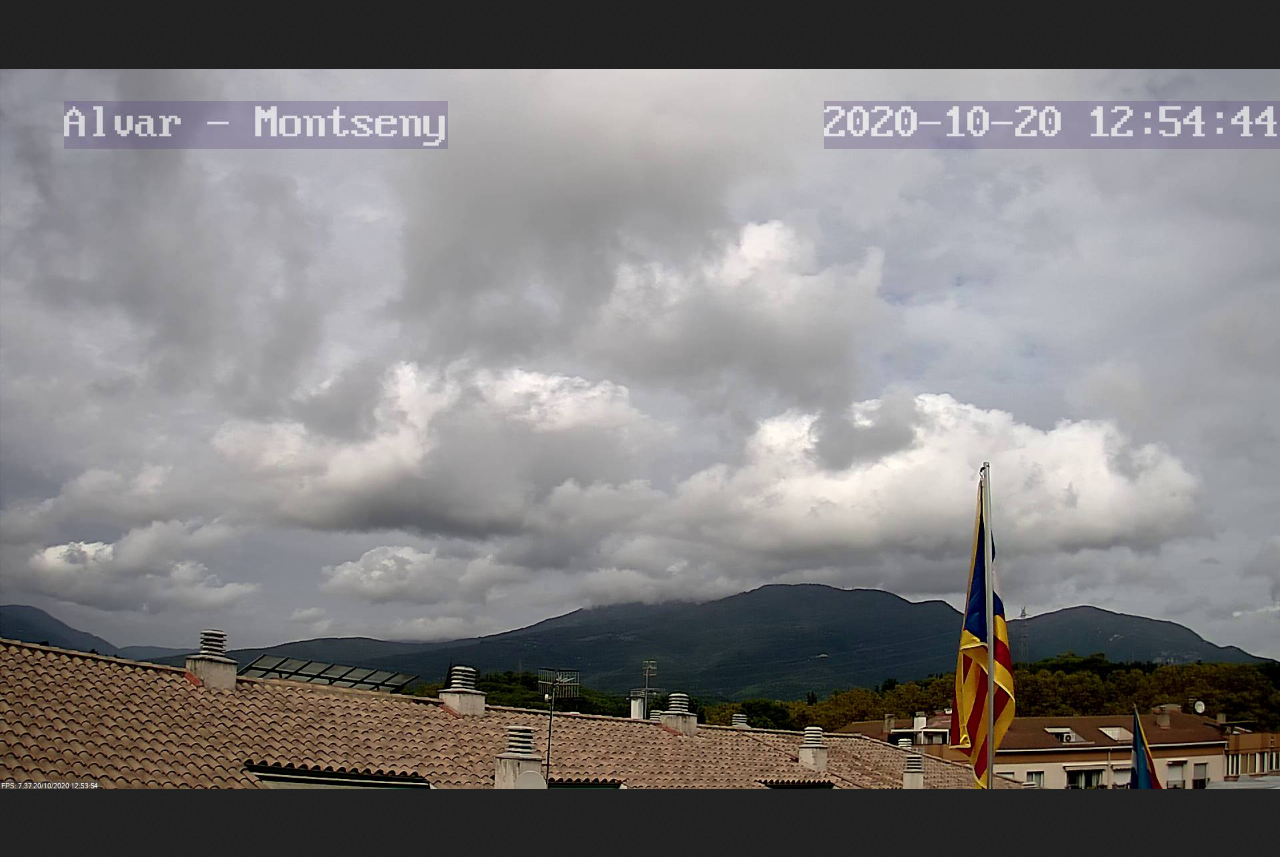no: (949, 475, 1018, 790)
